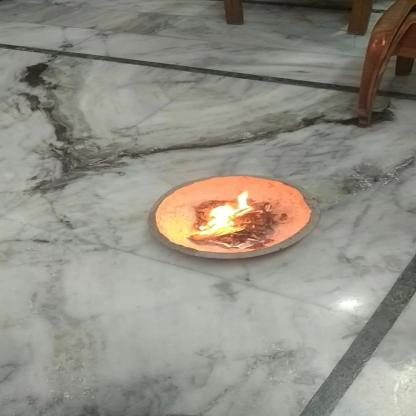fire: (188, 189, 263, 239)
